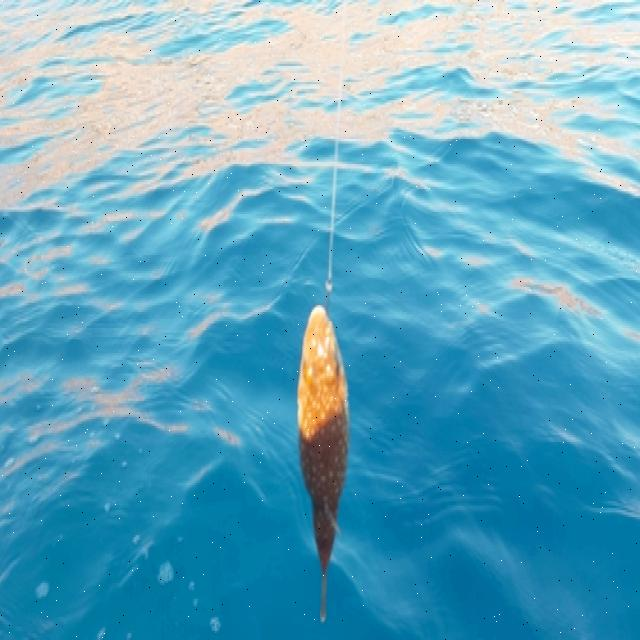Balik: (299, 306, 349, 621)
